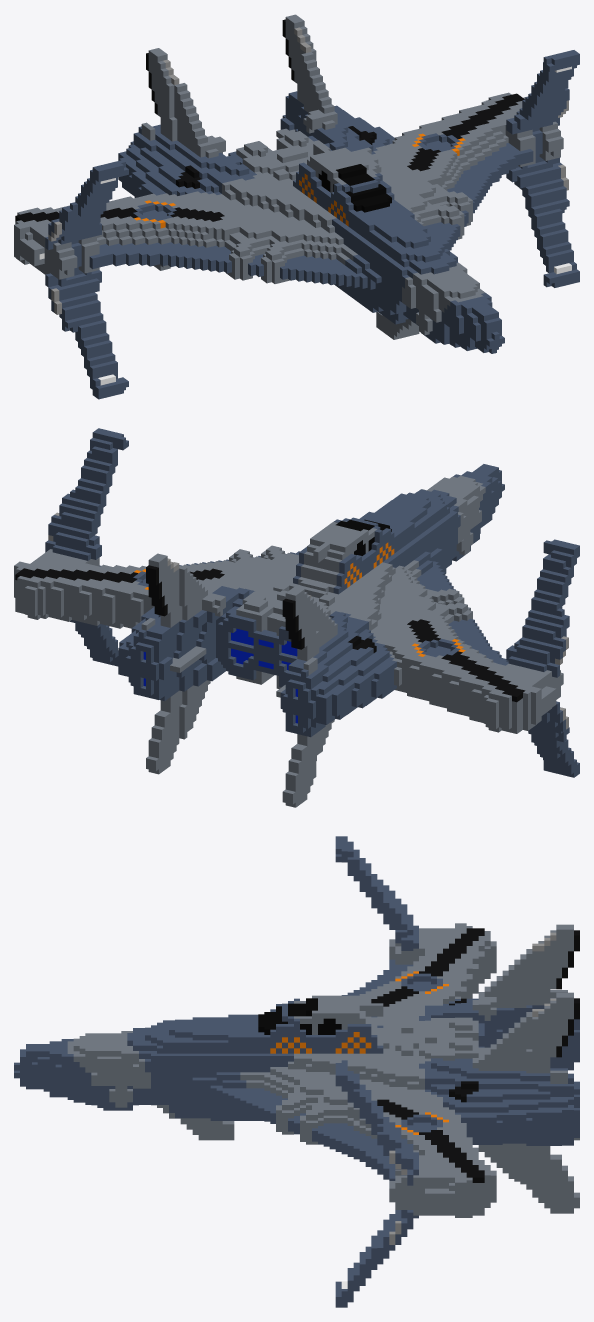
The model's file is Spaceship5.obj.
3 renders of one model, top to bottom at view 1: azimuth 30°, elevation 25°; view 2: azimuth 150°, elevation 25°; view 3: azimuth 270°, elevation 25°, orthographic.
Visible parts, largest first — view 1: Spaceship5_Spaceships; view 2: Spaceship5_Spaceships; view 3: Spaceship5_Spaceships.
Part boxes in pixels (x1,y1,x2,y2): Spaceship5_Spaceships: (14,14,579,399); Spaceship5_Spaceships: (14,428,579,807); Spaceship5_Spaceships: (14,836,579,1307).
Bounding box in the file's own units: 10.3 × 4.3 × 9.5.
